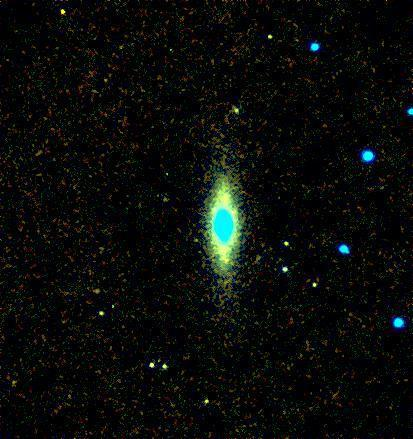star: (46, 0, 76, 26)
